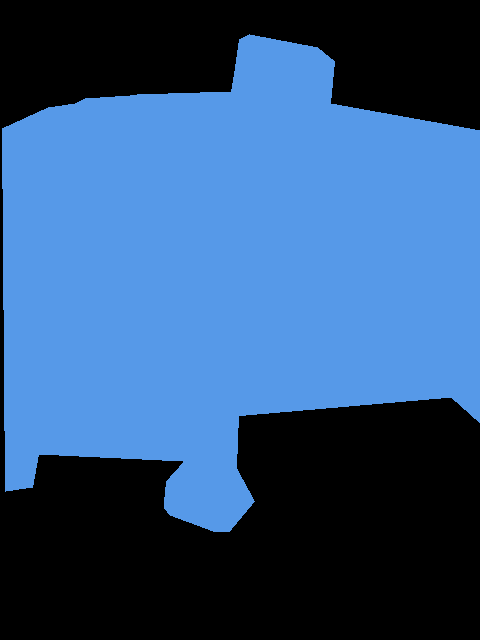Airplane: (2, 34, 480, 532)
